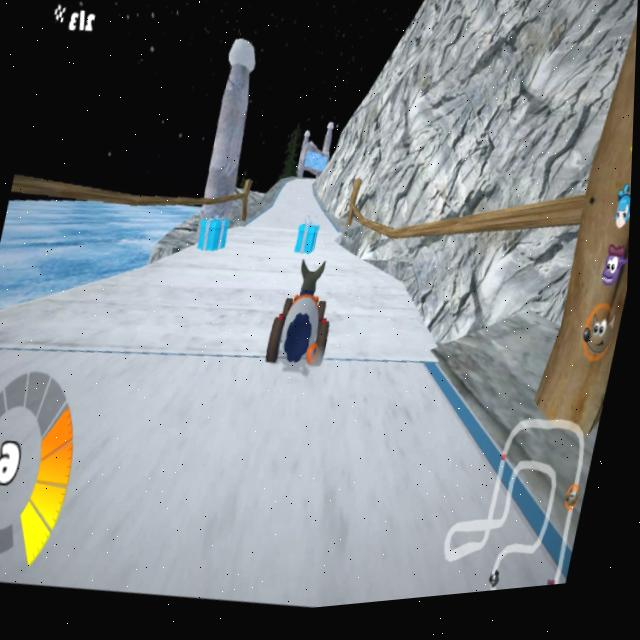bonus: (195, 219, 234, 260), (289, 222, 325, 263)
off_track: (326, 22, 581, 243), (0, 156, 188, 289)
player_kart: (266, 261, 346, 381)
track: (274, 182, 322, 223)
